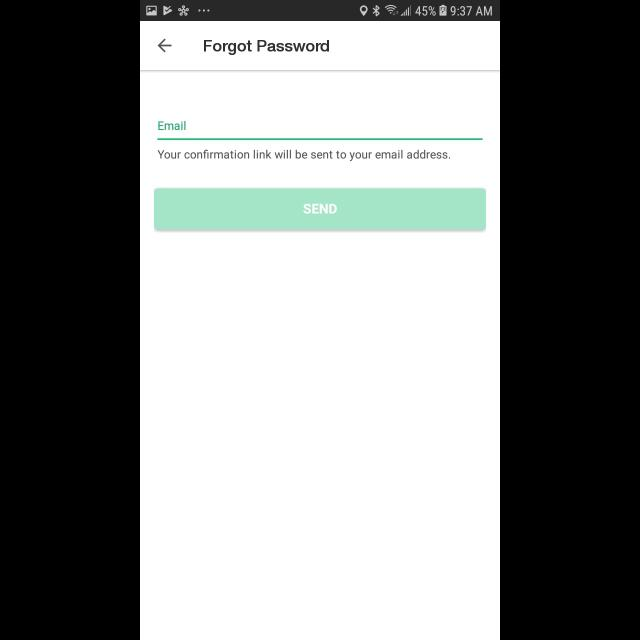icon: (158, 39, 172, 53)
input: (158, 121, 482, 141)
text: (157, 150, 450, 162), (204, 40, 330, 56), (158, 122, 186, 130)
textbutton: (154, 189, 486, 231)
uppertaskbar: (140, 1, 500, 22)
